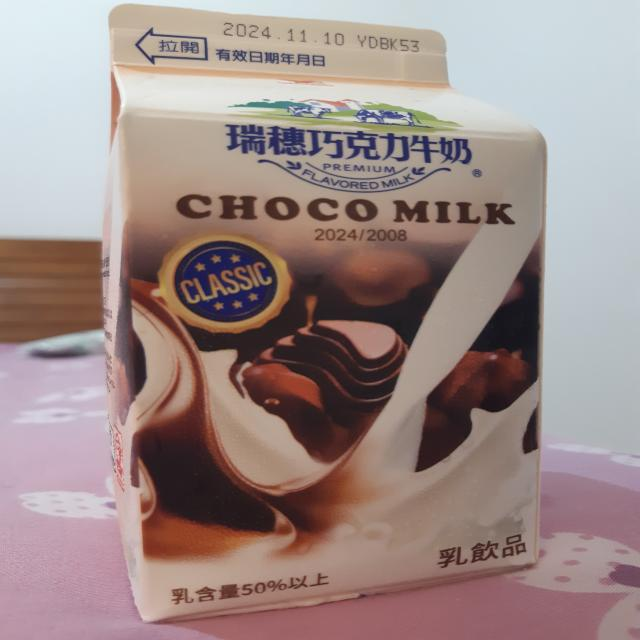RuiSui_ChocoMilk: (96, 0, 540, 628)
